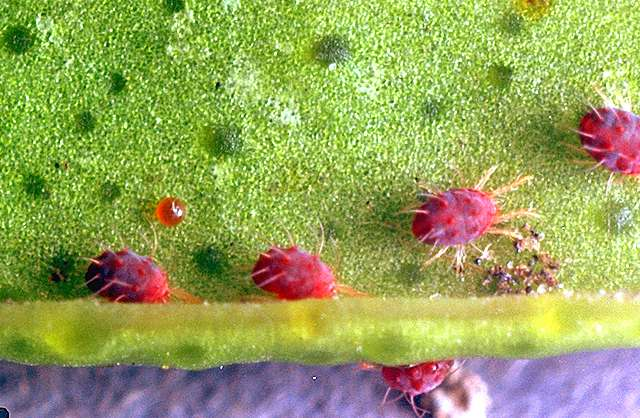Mites: (236, 216, 378, 328), (383, 165, 498, 276), (83, 236, 202, 323), (554, 86, 637, 195), (376, 349, 455, 407)
